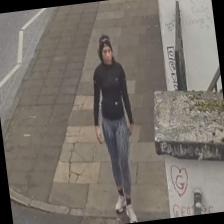person: (82, 32, 145, 224)
